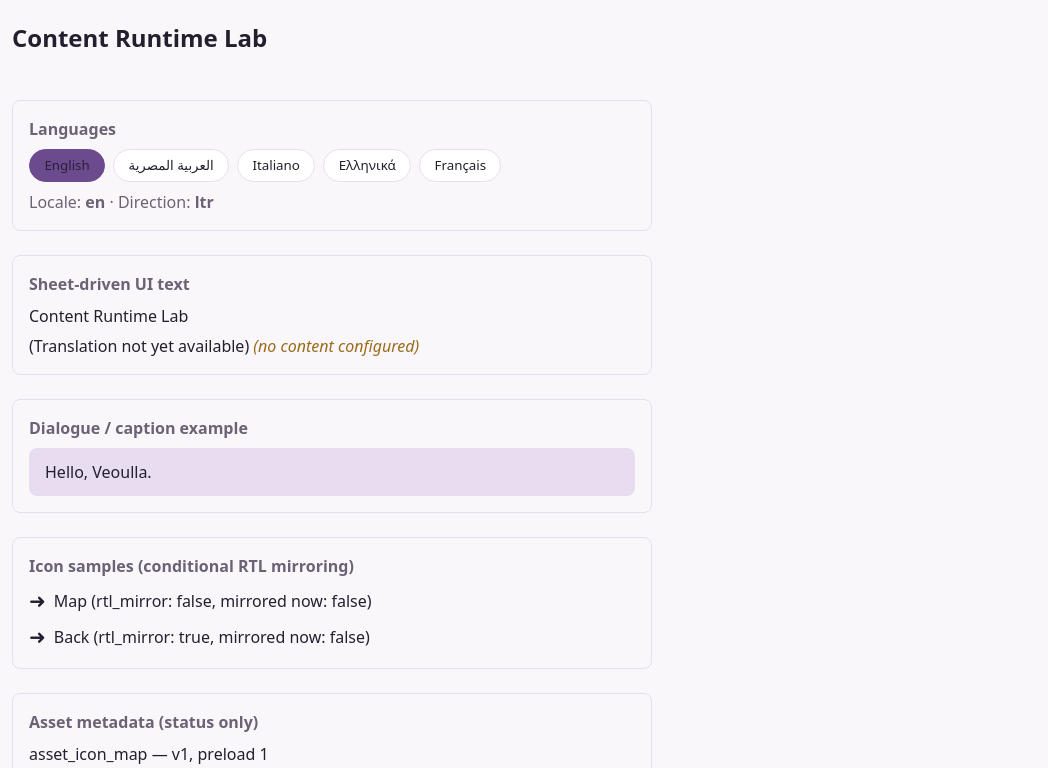
it: ContentRuntimeLab — switching locale (no reload) › updates document.documentElement.lang and dir when Arabic is selected, and back to LTR for Italian
expect the element with test id "locale-switcher" is shown: met, box [29,149,502,182]
What coordinates should you click on to do the following:
click the button with test id "locale-button-ar-EG"
I would click on:
 (171, 165)
Its box is [113,149,229,182].
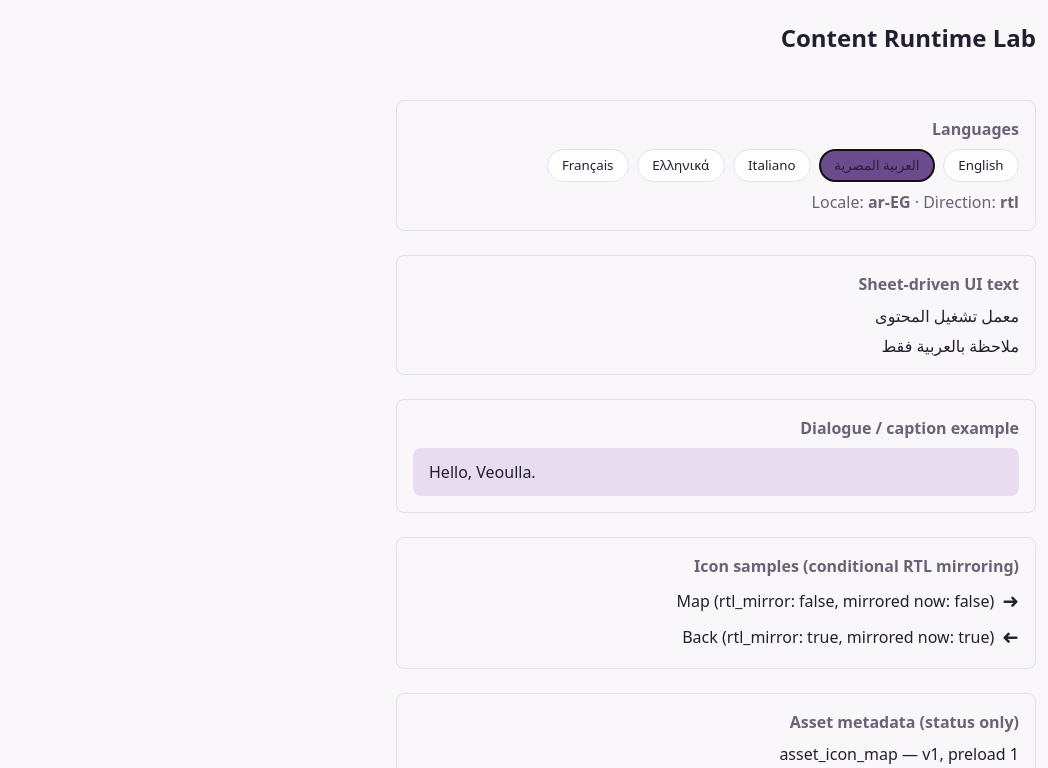
expect the element with test id "current-locale-direction" shows "rtl": met, box [1000,191,1019,213]
expect the text "ar-EG" is shown: met, box [868,191,910,213]
expect the text "rtl" is shown: met, box [1000,191,1019,213]
What coordinates should you click on to do the following:
click the button with test id "locale-button-it"
I would click on:
 (772, 165)
Its box is [733,149,811,182].
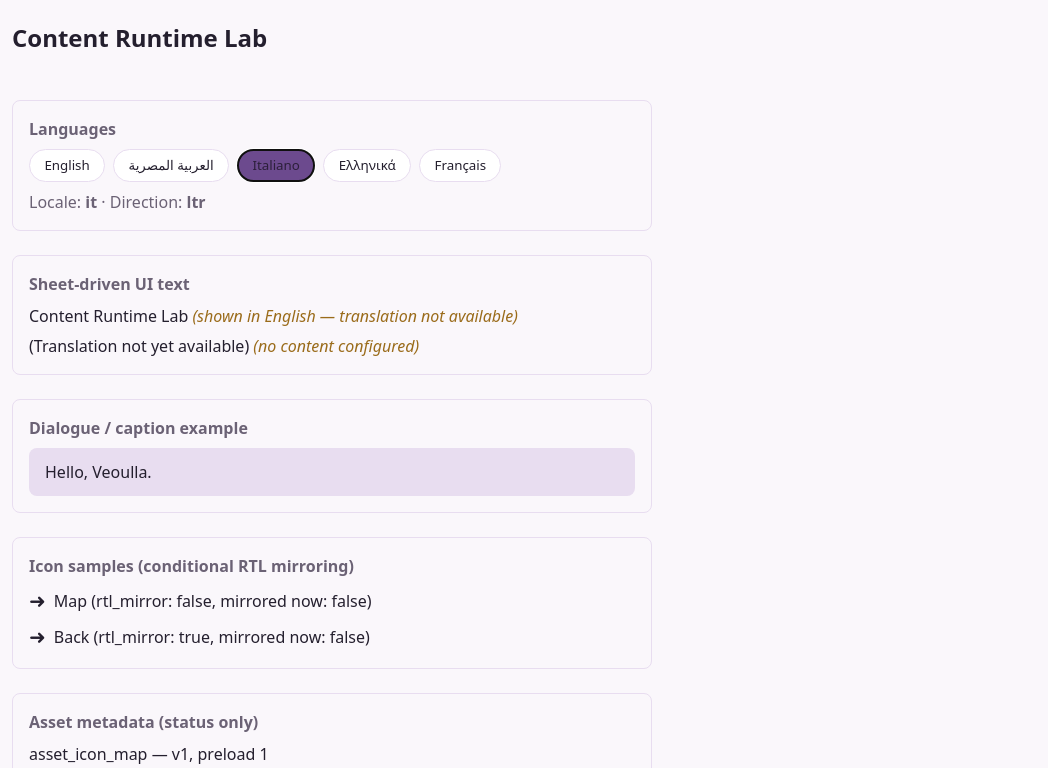
expect the element with test id "current-locale-direction" shows "ltr": met, box [186,191,206,213]
expect the text "ltr" is shown: met, box [186,191,206,213]
